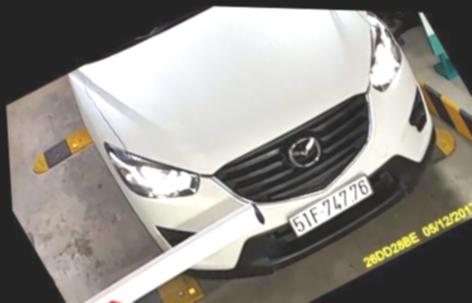License_Plate: (280, 175, 383, 237)
